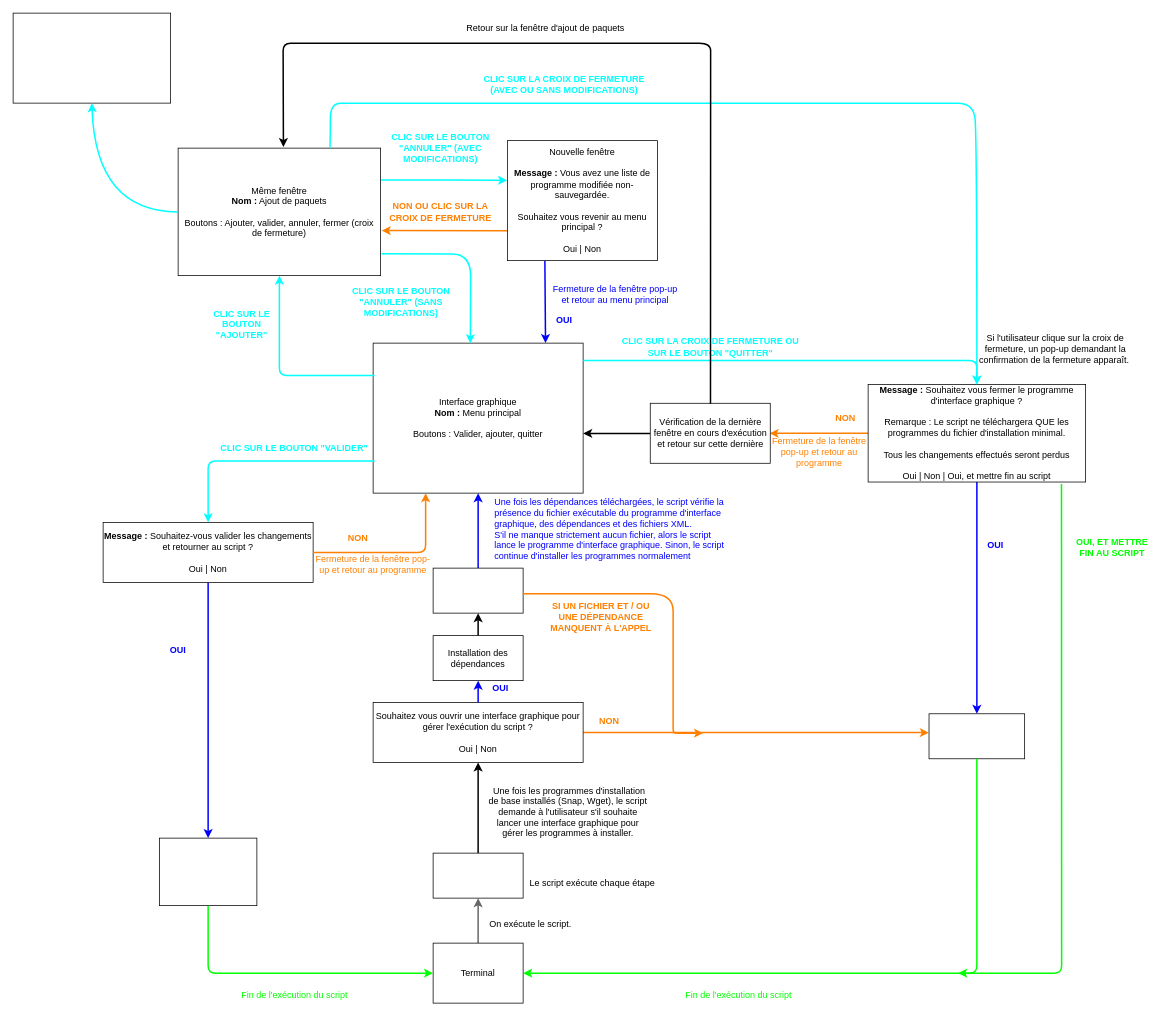
Some shapes in this 1167 by 1016 pixel diagram are drawn without their labels. The centre of each missing label's shape, as x and y in pixels:
"Retour au script et installation des programmes de base" belongs at (976,736).
"Retour au script et installation des programmes souhaités" belongs at (208,871).
"Script de parsing de fichiers XMLcodé en Python" belongs at (91,57).
"Script de réinstallation" belongs at (477,875).
"Test de la présence des fichiers et de toutes les dépendances" belongs at (477,590).
